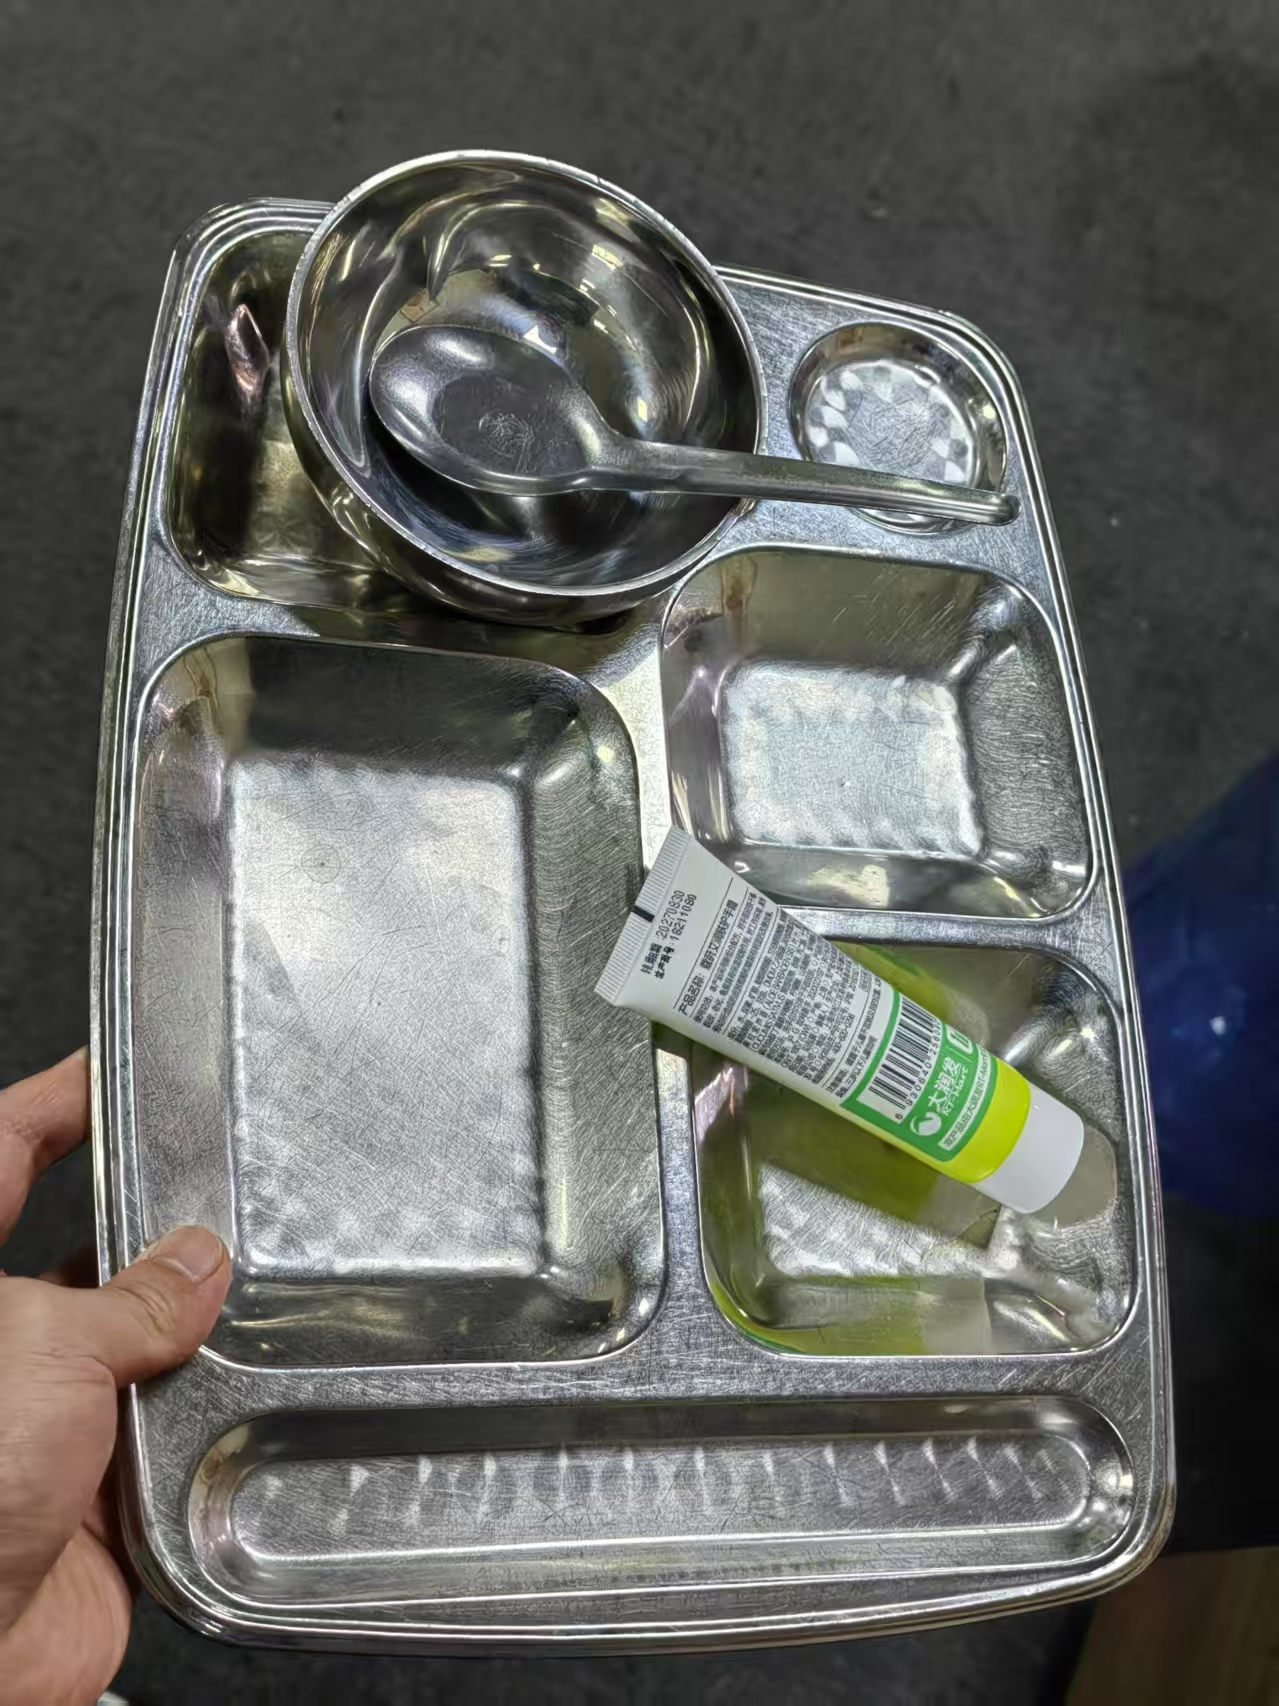mild: (590, 821, 1087, 1216)
plate: (87, 193, 1180, 1657)
